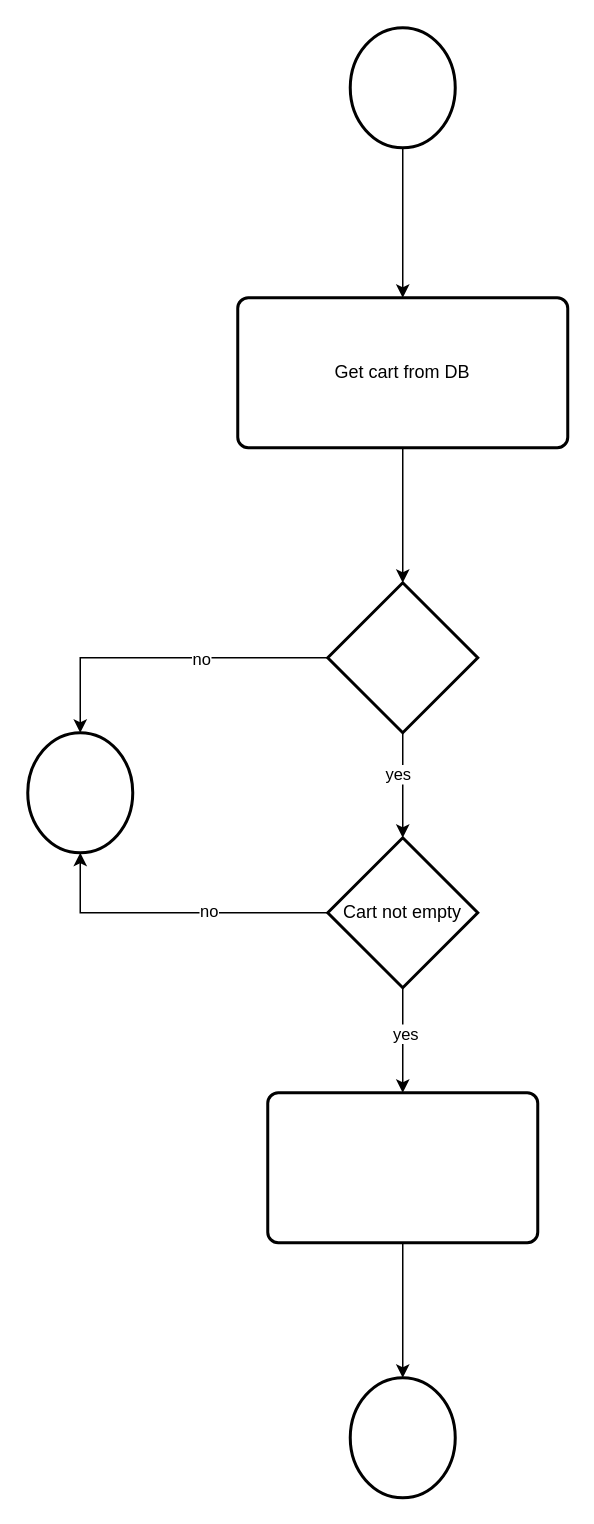
The diagram is 594 pixels wide and 1524 high, and some of its shapes have lost their labels. Each missing label, with the box of its shape:
Call repo and clear cart: (266, 1090, 538, 1244)
User Belong to cart?: (326, 580, 478, 734)
